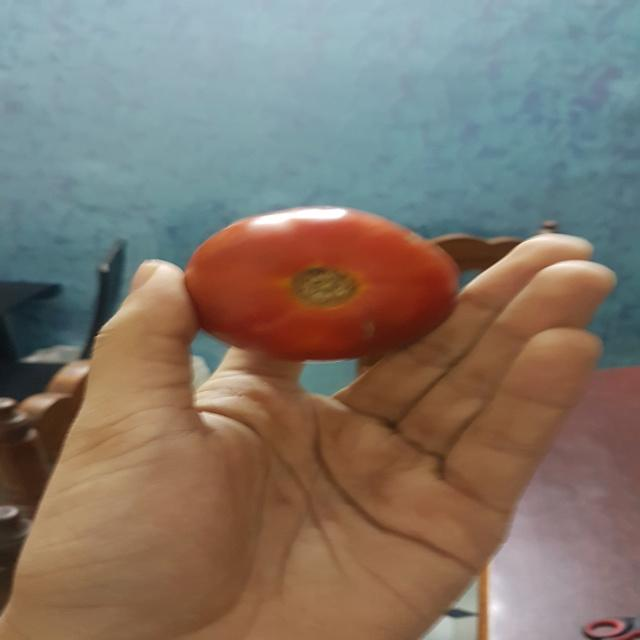tomato: (171, 189, 464, 374)
